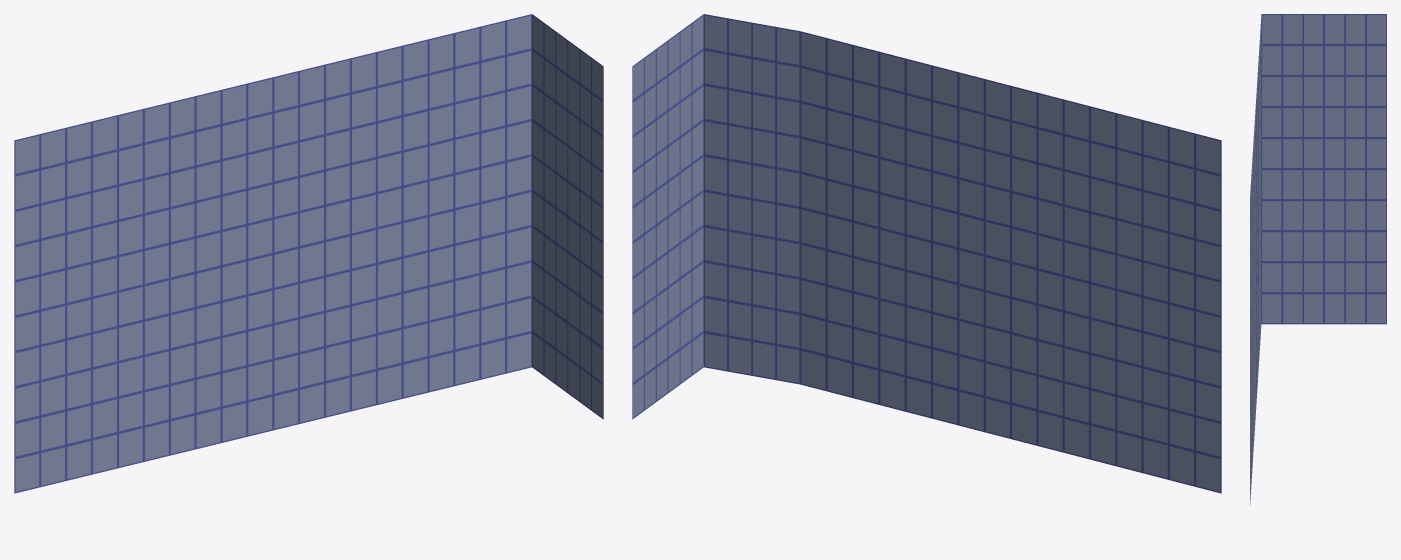
3 renders of one model, left to right at view 1: azimuth 30°, elevation 25°; view 2: azimuth 150°, elevation 25°; view 3: azimuth 270°, elevation 25°, orthographic. The views are drawn at different scales.
Bounding box in the file's own units: 46 × 30 × 12.
Materials: 2 (2 with a texture image).
